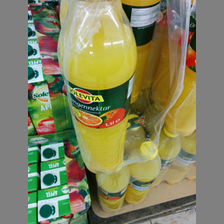juice: (58, 1, 137, 175)
